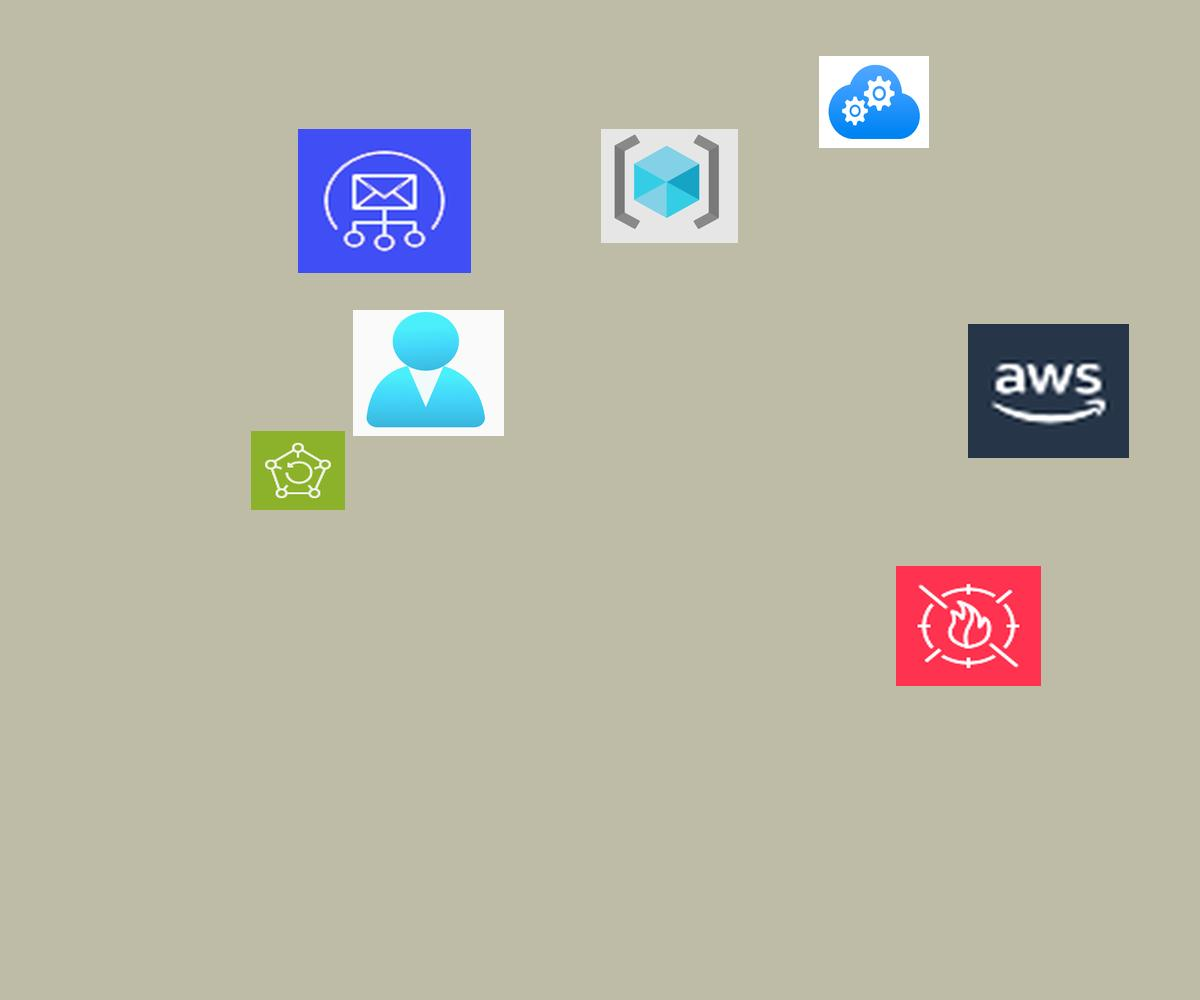AWS-Backup: (251, 431, 345, 510)
AWS-Cloud-logo: (968, 324, 1129, 458)
AWS-Simple-Email-Service: (298, 129, 471, 273)
AWS-WAF: (896, 566, 1041, 686)
Azure_cloud_services: (819, 56, 929, 148)
Azure_resource_group: (601, 129, 738, 243)
Azure_users: (353, 310, 504, 436)
